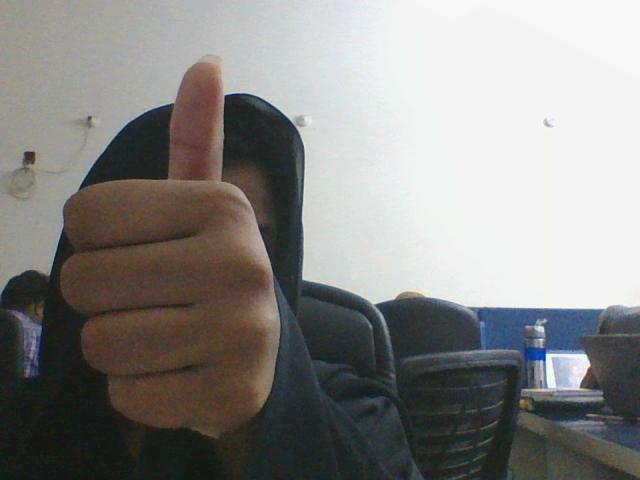thumbs-up: (58, 49, 279, 430)
